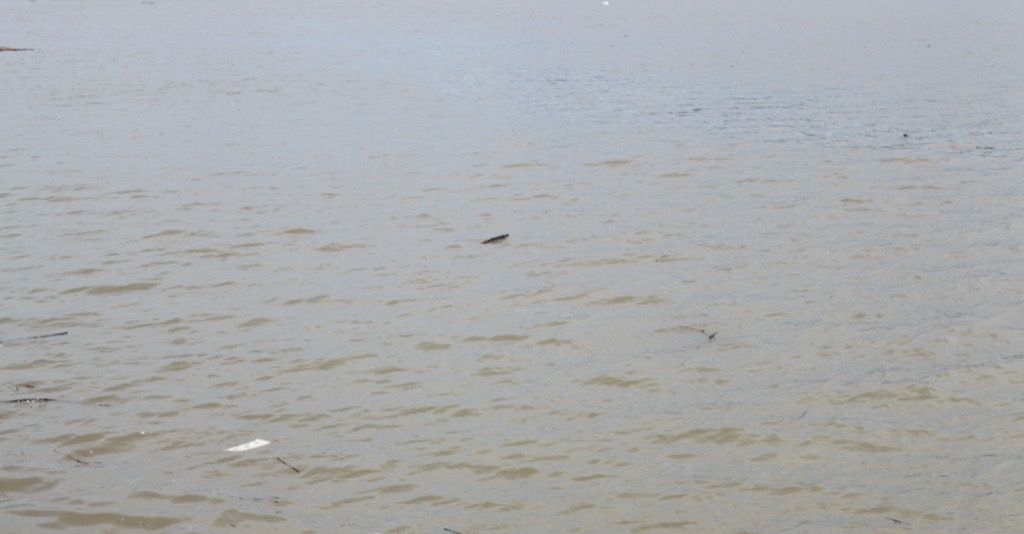organic: (1, 385, 120, 417), (1, 319, 90, 356), (41, 438, 109, 474), (669, 319, 724, 352), (473, 226, 520, 253), (876, 503, 917, 533), (269, 449, 307, 479), (1, 39, 45, 60), (434, 519, 476, 534), (895, 125, 914, 144)
plastic: (202, 413, 292, 472), (599, 1, 612, 6)
